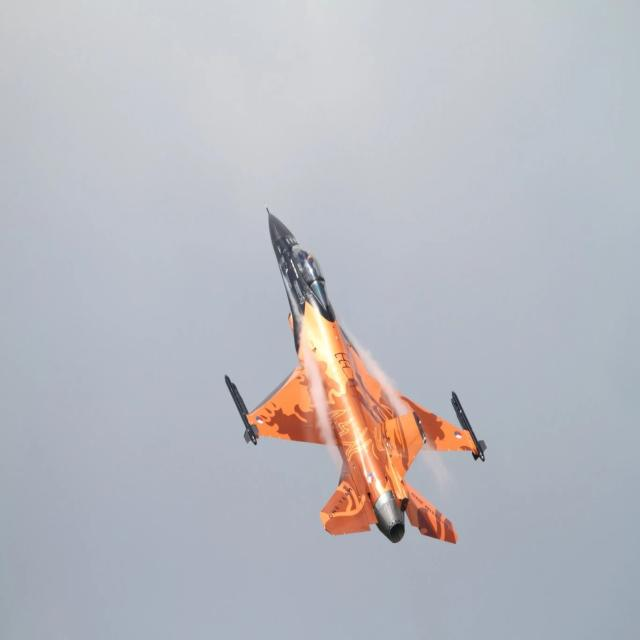MIL_Plane: (224, 202, 487, 544)
